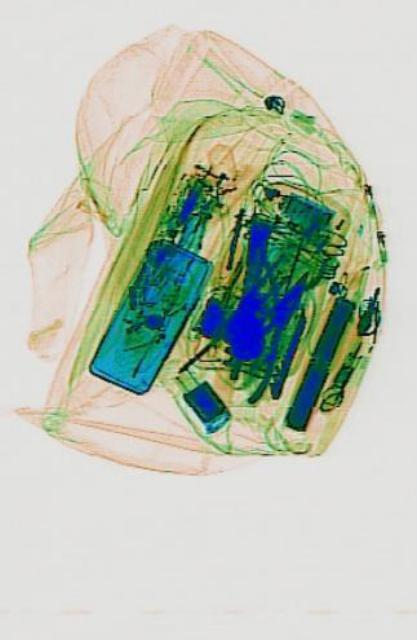Pliers: (222, 254, 321, 406)
